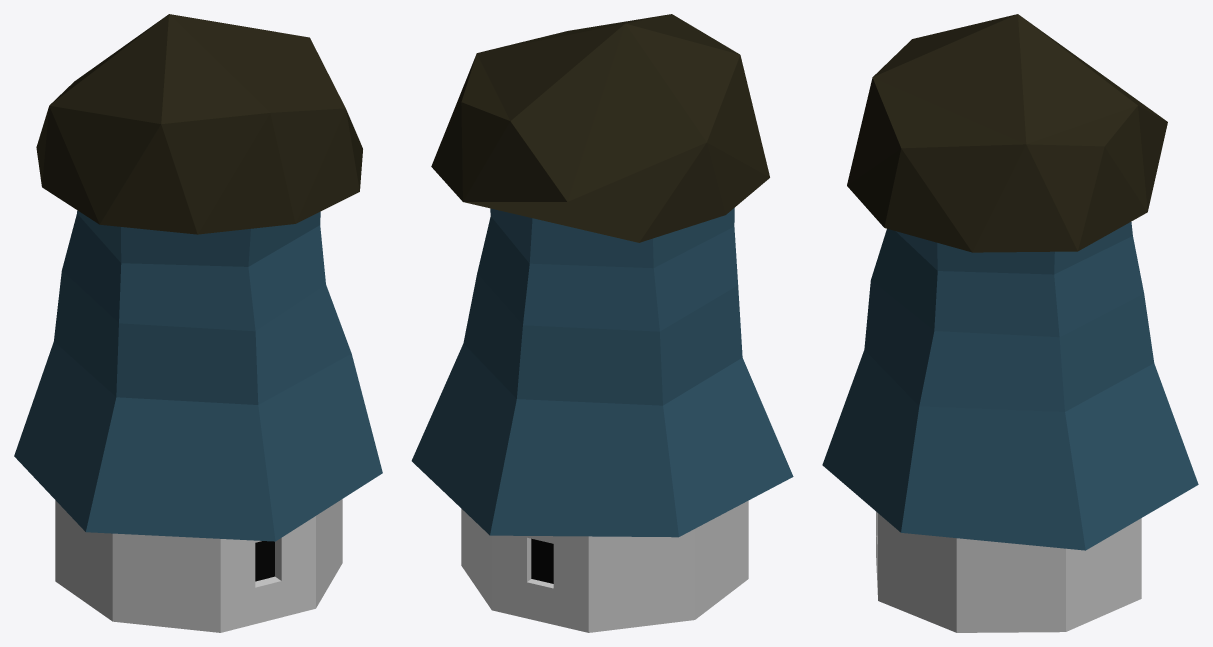
Rendered from Windmill.fbx.
3 renders of one model, left to right at view 1: azimuth 30°, elevation 25°; view 2: azimuth 150°, elevation 25°; view 3: azimuth 270°, elevation 25°, orthographic.
Parts seen in each view (by area): view 1: Windmill; view 2: Windmill; view 3: Windmill.
Part boxes in pixels (box(x1,y1,x2,y2)): Windmill: box(14, 14, 382, 632); Windmill: box(411, 14, 793, 632); Windmill: box(822, 14, 1198, 632).
Bounding box in the file's own units: 5.48 × 9.58 × 5.94.
